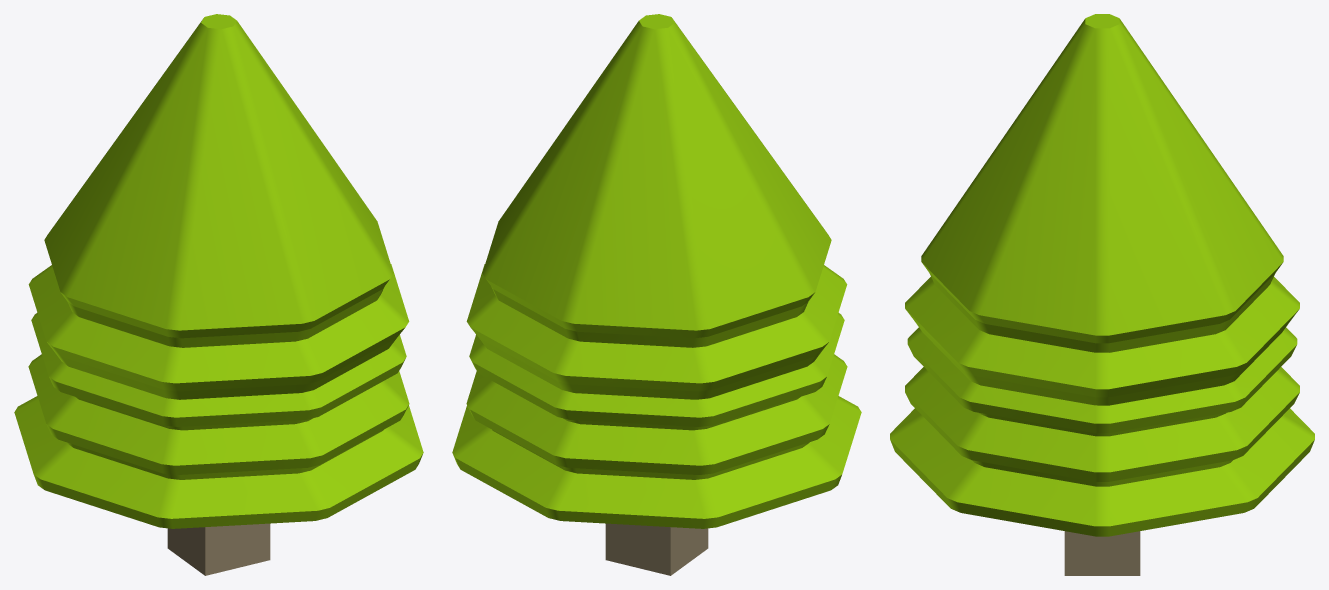
The model's file is pine_4_bevel.fbx.
3 views of the same model, side by side, from view 1: azimuth 30°, elevation 25°; view 2: azimuth 150°, elevation 25°; view 3: azimuth 270°, elevation 25° (orthographic).
Parts seen in each view (by area): view 1: pine_4_bevel; view 2: pine_4_bevel; view 3: pine_4_bevel.
Boxes of the visible parts, box(x1,y1,x2,y2) form: pine_4_bevel: box(14, 14, 423, 575); pine_4_bevel: box(452, 14, 861, 575); pine_4_bevel: box(890, 14, 1314, 575).
Size of the model in its own units: 124 by 174 by 124.
